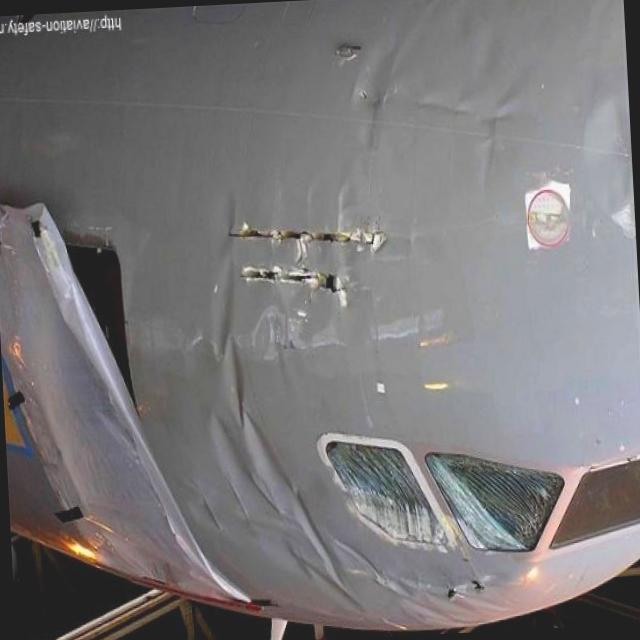crack: (221, 213, 392, 310)
dent: (159, 172, 483, 640)
